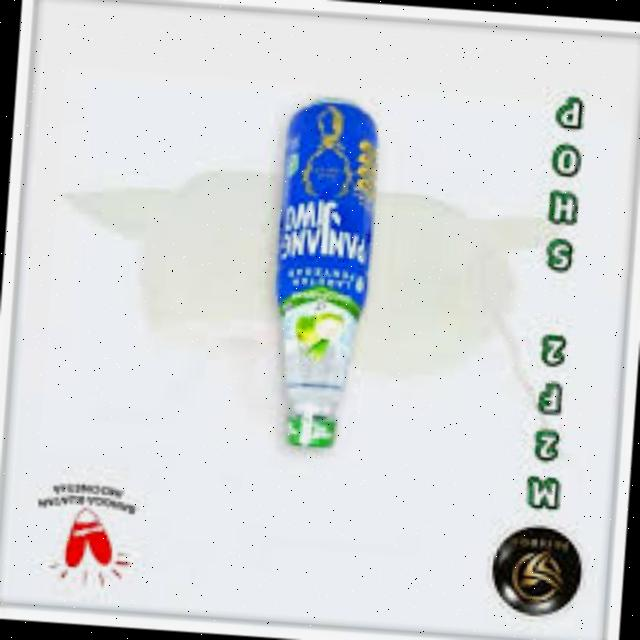bottle: (254, 91, 376, 464)
cap: (284, 402, 348, 456)
